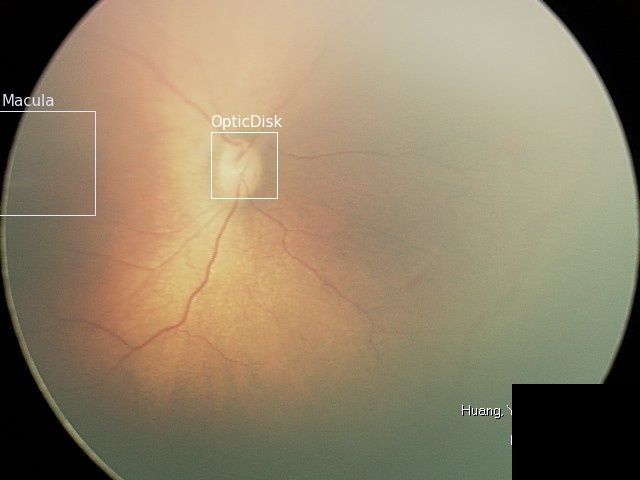OpticDisk: (210, 131, 276, 197)
